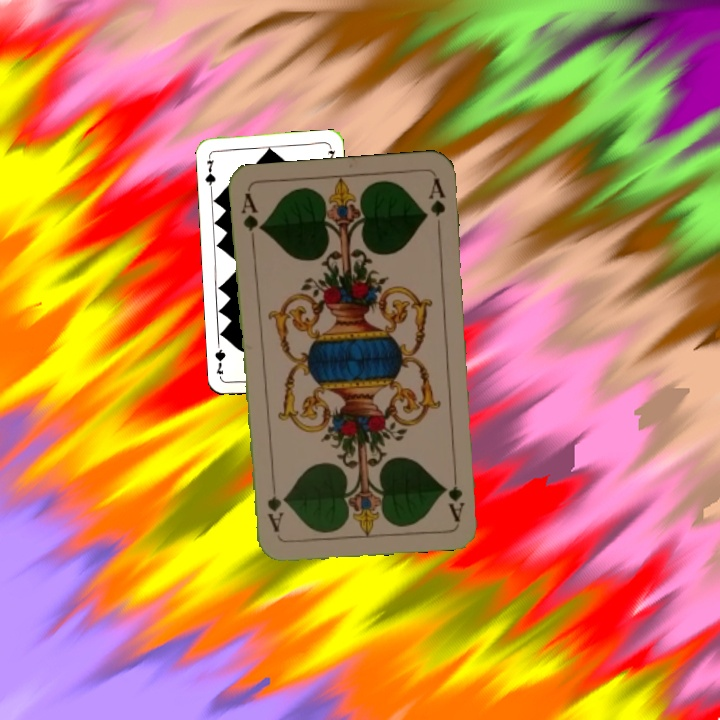G7: (201, 151, 218, 191)
GA: (237, 189, 265, 248), (445, 464, 466, 523)
